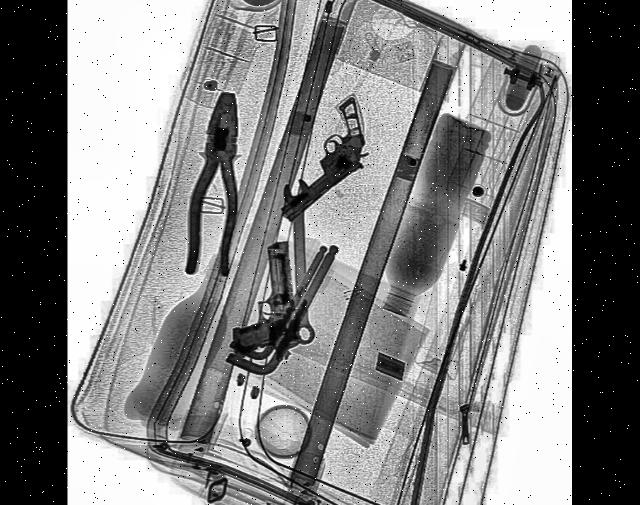Gun: (262, 97, 376, 226), (224, 240, 302, 370)
Pliers: (182, 88, 248, 284)
Wrench: (282, 180, 317, 349)
